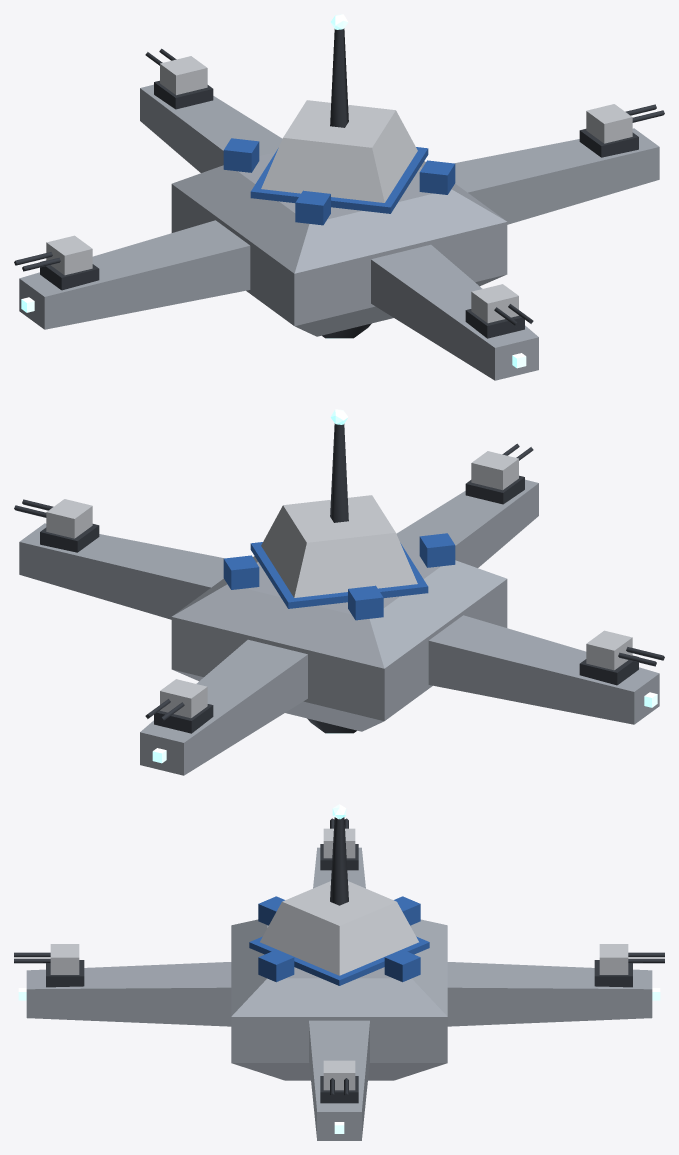
File: DefensePlatform.glb
3 views of the same model, one above another, from view 1: azimuth 30°, elevation 25°; view 2: azimuth 150°, elevation 25°; view 3: azimuth 270°, elevation 25° (orthographic). The views are drawn at different scales.
Parts seen in each view (by area): view 1: platform_hull, arm_2, core_block, arm_0, arm_1, arm_3, core_band, sensor_mast, turret_3, turret_0, turret_1, turret_2 (+7 smaller); view 2: platform_hull, arm_2, core_block, arm_0, arm_3, arm_1, core_band, sensor_mast, turret_1, turret_0, turret_3, turret_2 (+7 smaller); view 3: platform_hull, arm_1, arm_3, core_block, arm_0, core_band, sensor_mast, missile_pod_0, missile_pod_3, turret_1, turret_3, turret_0 (+5 smaller).
Part boxes in pixels (x1,y1,x2,y2): platform_hull: (171, 152, 507, 336); arm_2: (19, 220, 250, 329); core_block: (261, 100, 417, 202); arm_0: (454, 128, 659, 224); arm_1: (371, 244, 538, 380); arm_3: (140, 84, 282, 172); core_band: (250, 147, 428, 213); sensor_mast: (330, 28, 348, 127); turret_3: (160, 56, 207, 95); turret_0: (586, 104, 632, 143); turret_1: (471, 284, 518, 323); turret_2: (46, 235, 92, 275); platform_hull: (171, 547, 507, 731); arm_2: (428, 615, 659, 724); core_block: (261, 495, 417, 597); arm_0: (19, 523, 224, 619); arm_3: (140, 639, 307, 775); arm_1: (396, 479, 538, 567); core_band: (250, 542, 428, 608); sensor_mast: (330, 423, 348, 522); turret_1: (471, 451, 518, 490); turret_0: (46, 499, 92, 538); turret_3: (160, 679, 207, 718); turret_2: (586, 630, 632, 670); platform_hull: (231, 919, 447, 1080); arm_1: (26, 962, 231, 1026); arm_3: (447, 962, 652, 1026); core_block: (260, 881, 418, 975); arm_0: (309, 1020, 369, 1140); core_band: (249, 936, 429, 985); sensor_mast: (330, 817, 348, 905); missile_pod_0: (258, 949, 294, 982); missile_pod_3: (384, 949, 420, 982); turret_1: (50, 944, 79, 974); turret_3: (599, 944, 628, 974); turret_0: (323, 1060, 355, 1090).
Bounding box in the file's own units: 204 × 95.63 × 204.
